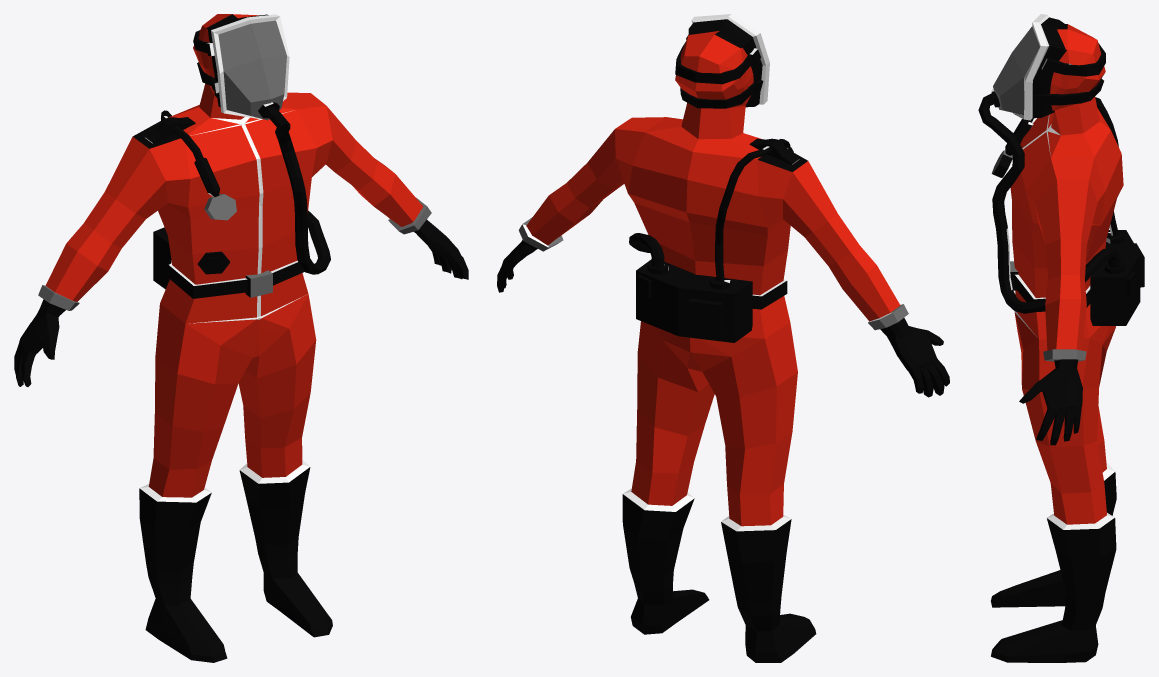
File: Bombero.fbx
3 renders of one model, left to right at view 1: azimuth 30°, elevation 25°; view 2: azimuth 150°, elevation 25°; view 3: azimuth 270°, elevation 25°, orthographic.
Parts seen in each view (by area): view 1: Hazmat_3; view 2: Hazmat_3; view 3: Hazmat_3.
Part boxes in pixels (box(x1,y1,x2,y2)): Hazmat_3: box(14, 14, 468, 662); Hazmat_3: box(497, 14, 949, 662); Hazmat_3: box(978, 14, 1144, 662).
Size of the model in its own units: 423 by 556 by 138.
